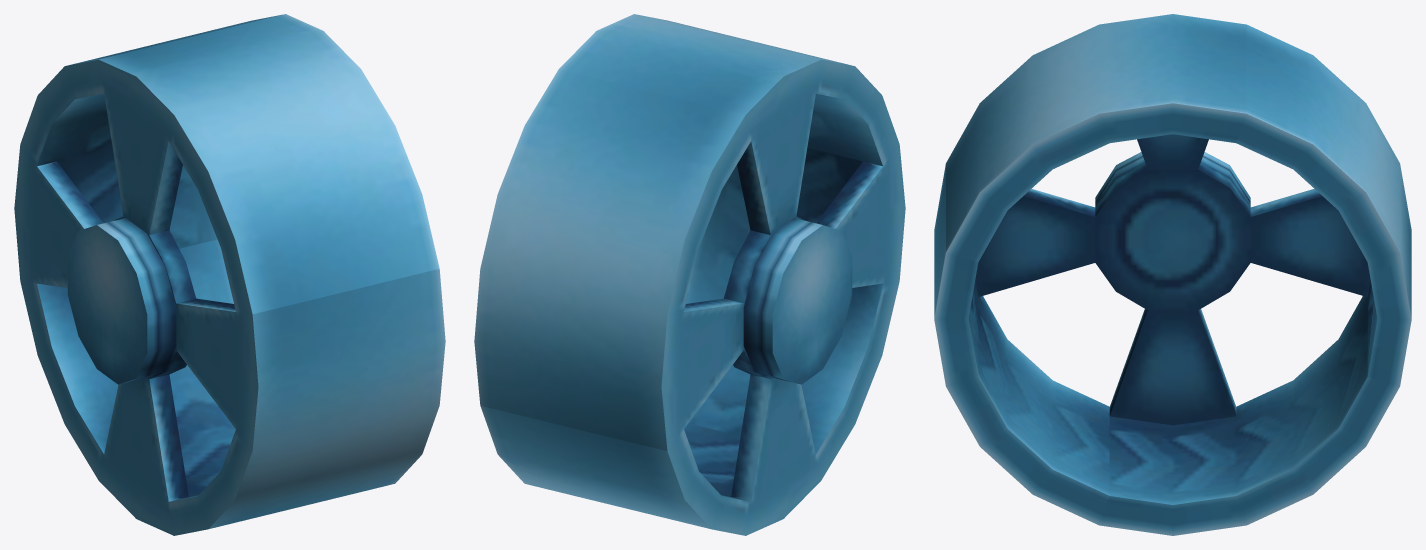
Rendered from ruedaHamster.fbx.
The picture shows the model from 3 angles, left to right: view 1: azimuth 30°, elevation 25°; view 2: azimuth 150°, elevation 25°; view 3: azimuth 270°, elevation 25°; orthographic projection. The views are drawn at different scales.
Visible parts, largest first — view 1: s4studio_mesh_2; view 2: s4studio_mesh_2; view 3: s4studio_mesh_2.
Part boxes in pixels (box(x1,y1,x2,y2)): s4studio_mesh_2: box(14, 14, 445, 535); s4studio_mesh_2: box(474, 14, 905, 535); s4studio_mesh_2: box(934, 14, 1411, 535).
Bounding box in the file's own units: 17.87 × 34.99 × 34.99.
1 material, 1 textured.
